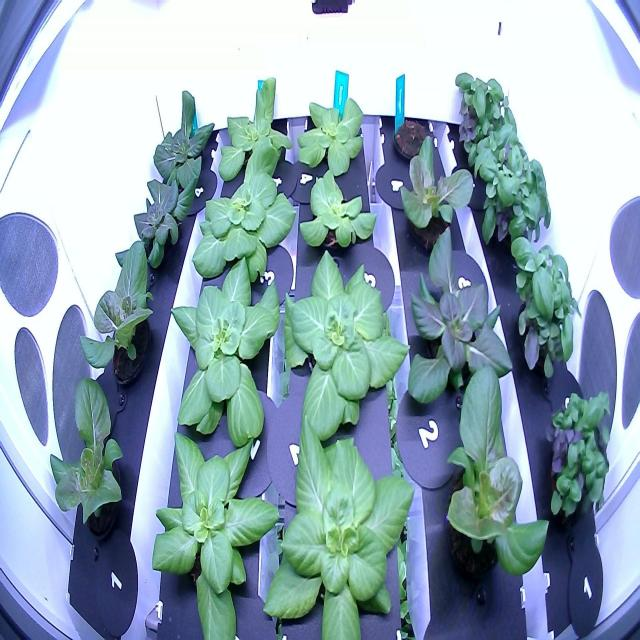pod: (388, 107, 435, 169)
young: (257, 405, 429, 639), (434, 357, 554, 617), (147, 426, 283, 640), (279, 246, 421, 449), (154, 253, 290, 452), (399, 216, 518, 423), (42, 363, 132, 559), (187, 165, 299, 294), (74, 231, 161, 392), (392, 128, 480, 265), (208, 66, 300, 193), (128, 150, 204, 275), (149, 77, 218, 204), (296, 74, 370, 182), (293, 166, 380, 254)
